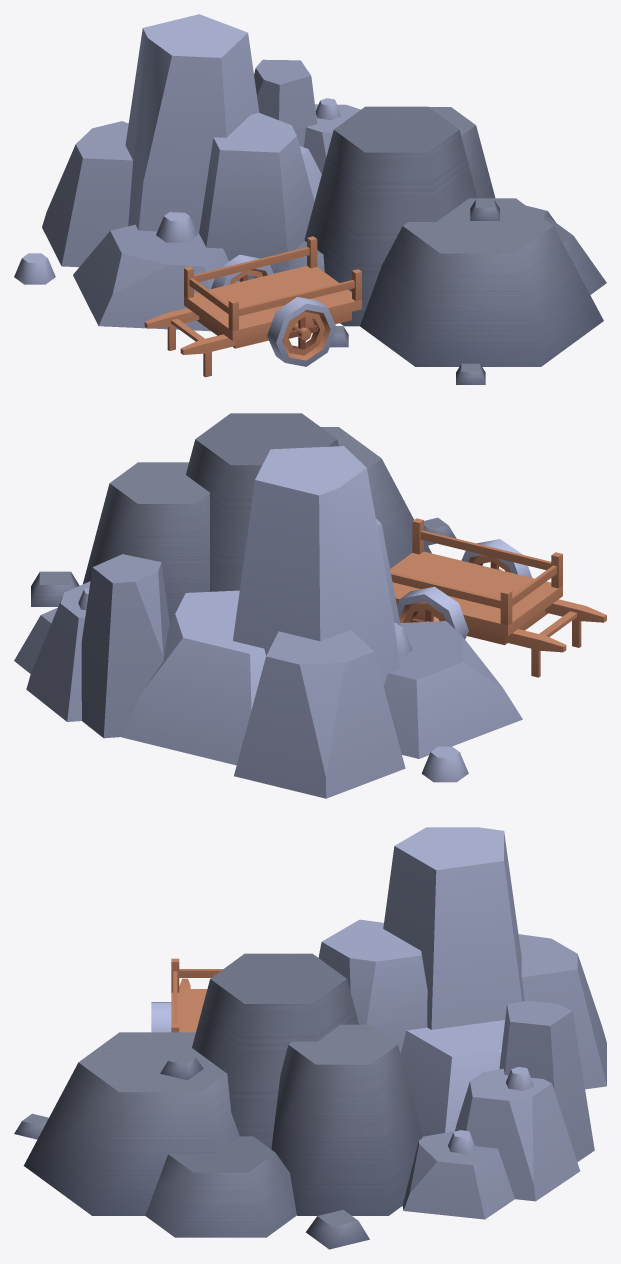
File: quarry_2.glb
3 renders of one model, top to bottom at view 1: azimuth 30°, elevation 25°; view 2: azimuth 150°, elevation 25°; view 3: azimuth 270°, elevation 25°, orthographic. The views are drawn at different scales.
Visible parts, largest first — view 1: quarry_2; view 2: quarry_2; view 3: quarry_2.
Part boxes in pixels (box(x1,y1,x2,y2)): quarry_2: box(14, 14, 606, 384); quarry_2: box(14, 413, 606, 798); quarry_2: box(14, 827, 606, 1249).
Bounding box in the file's own units: 1.07 × 0.4884 × 1.09.
Materials: 4 (4 with a texture image).
